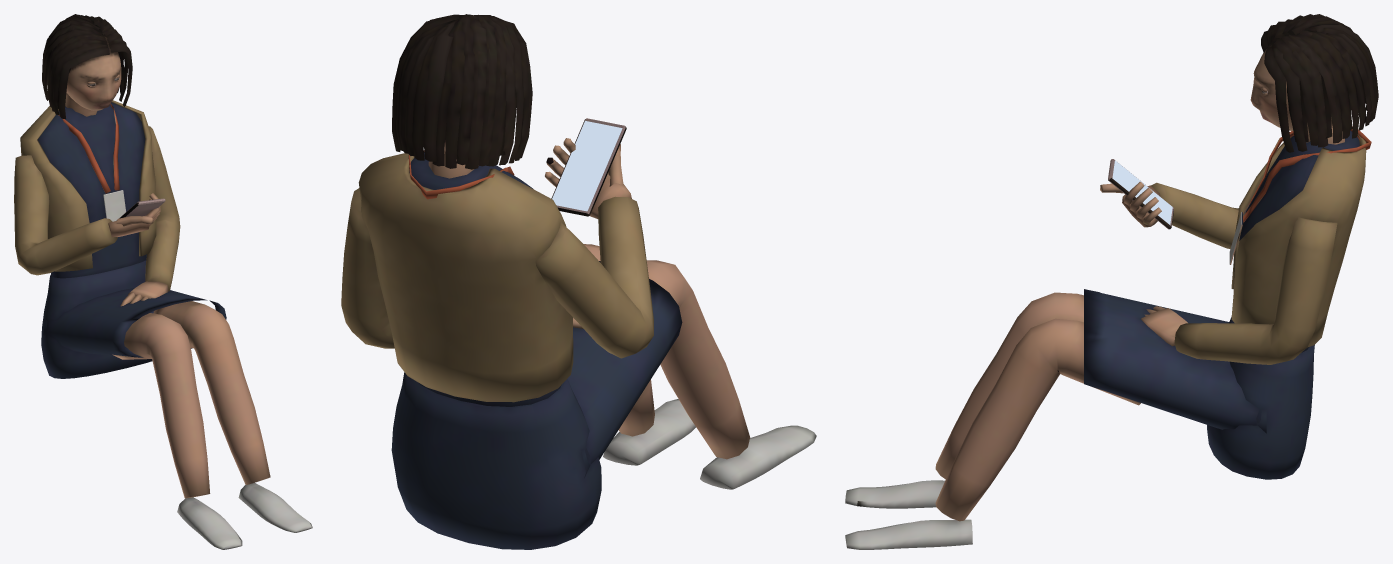
The model's file is mei_seated.glb.
3 renders of one model, left to right at view 1: azimuth 30°, elevation 25°; view 2: azimuth 150°, elevation 25°; view 3: azimuth 270°, elevation 25°, orthographic. The views are drawn at different scales.
Parts seen in each view (by area): view 1: Mei, Chest, Head; view 2: Chest, Mei, Head; view 3: Mei, Chest, Head.
Part boxes in pixels (x1,y1,x2,y2): Mei: [41, 260, 312, 549]; Chest: [14, 92, 180, 306]; Head: [42, 14, 132, 118]; Chest: [341, 118, 653, 406]; Mei: [391, 244, 816, 549]; Head: [392, 14, 532, 169]; Mei: [845, 289, 1314, 549]; Chest: [1100, 125, 1371, 364]; Head: [1250, 14, 1378, 152].
Size of the model in its own units: 0.4746 by 1.01 by 0.977.
6 materials, 5 textured.
